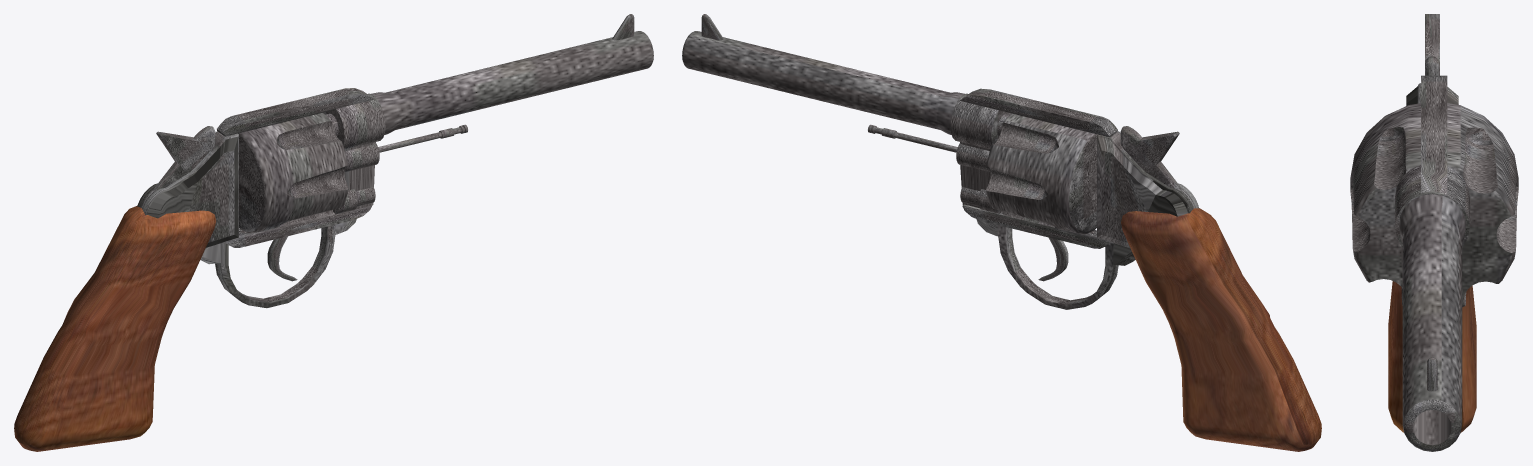
Rendered from revolver_OBJ.obj.
The picture shows the model from 3 angles, left to right: view 1: azimuth 30°, elevation 25°; view 2: azimuth 150°, elevation 25°; view 3: azimuth 270°, elevation 25°; orthographic projection. The views are drawn at different scales.
Parts seen in each view (by area): view 1: pCube24 group1; view 2: pCube24 group1; view 3: pCube24 group1.
Boxes of the visible parts, x1,y1,x2,y2 form: pCube24 group1: (14, 14, 653, 451); pCube24 group1: (682, 14, 1321, 451); pCube24 group1: (1350, 14, 1518, 451).
Size of the model in its own units: 8.17 by 3.72 by 1.25.
Materials: 2 (2 with a texture image).
